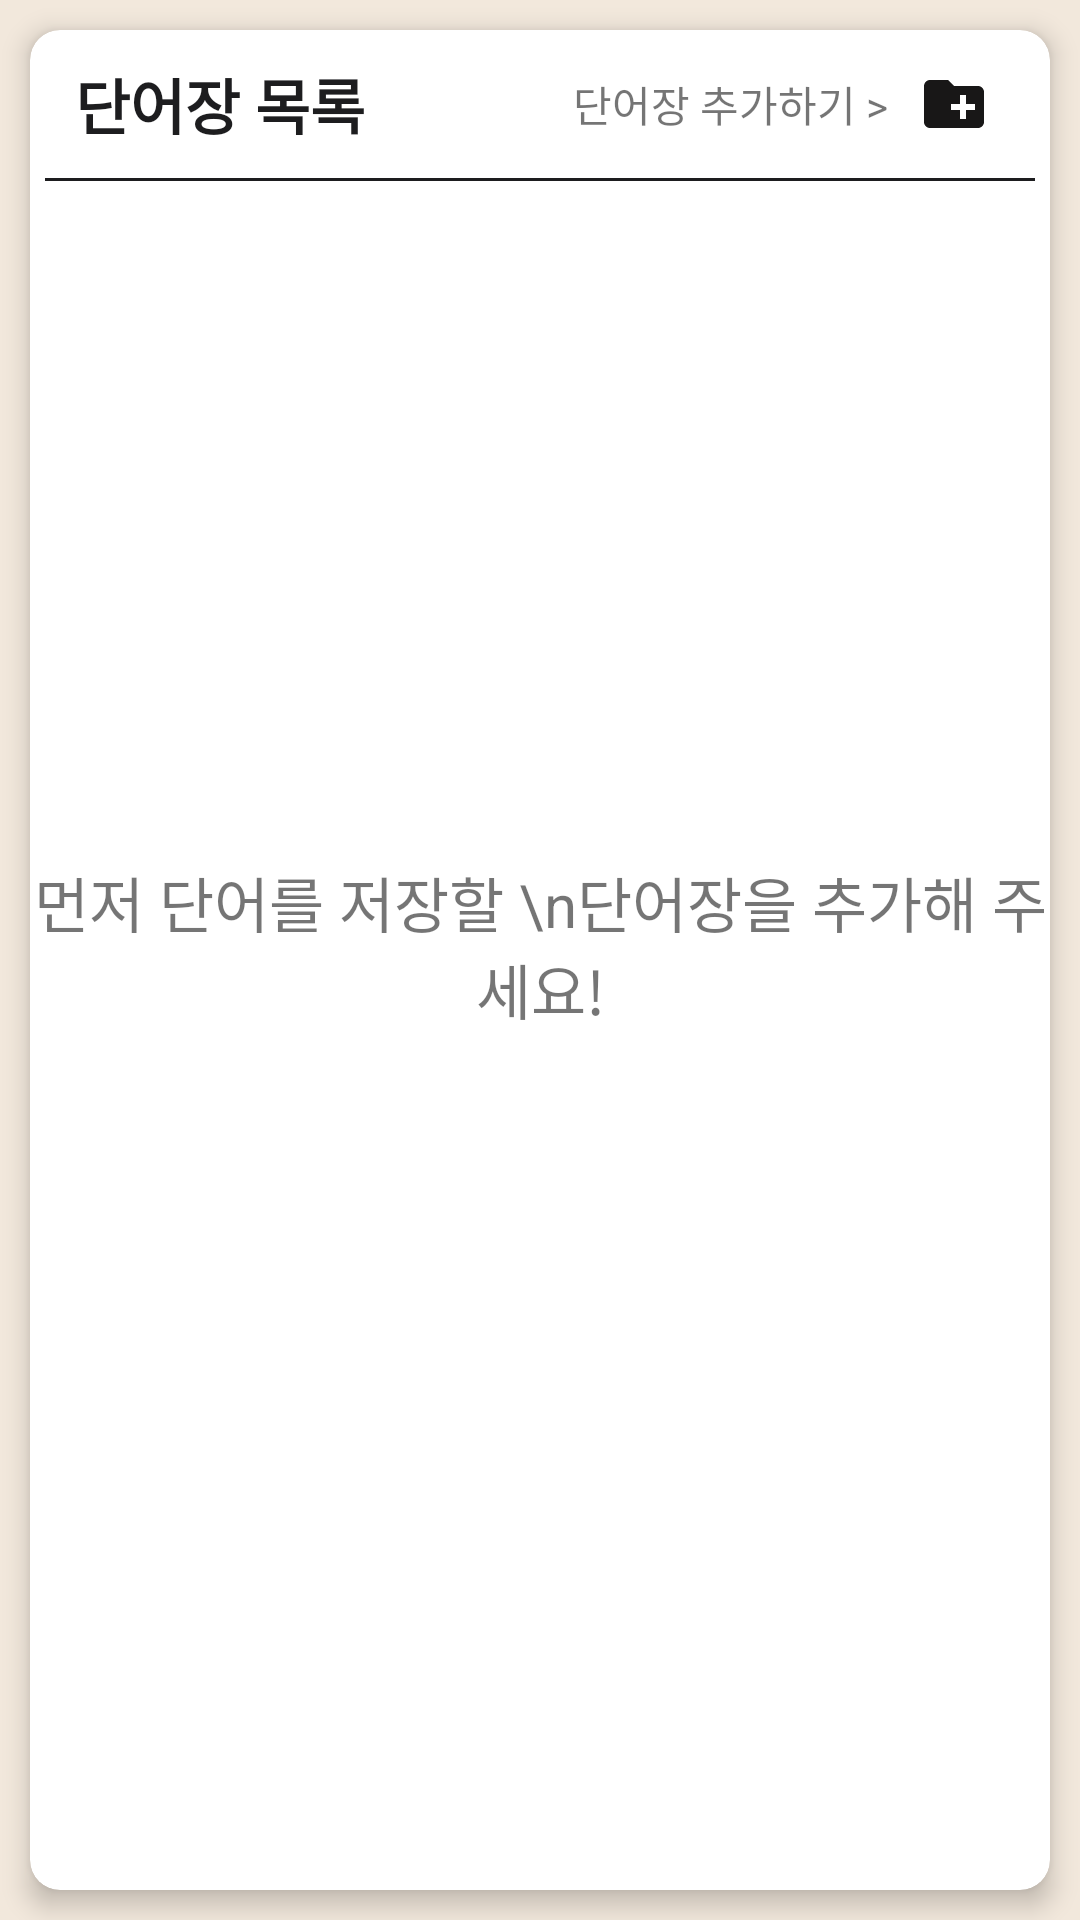

Screen size 1080px×1920px. Icon name, then its center in pixels as point (x, y):
create folder: point (954, 104)
